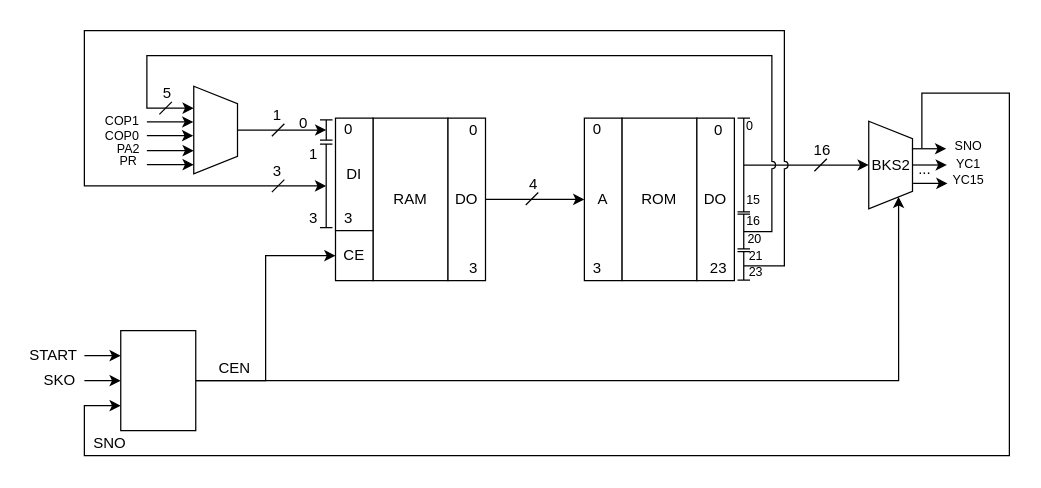
The diagram is 1041 pixels wide and 488 high, and some of its shapes have lost their labels. The centre of each missing label's shape, as x and y in pixels:
"BKS1" goes at point 215,129.
"SPO" goes at point 158,380.
